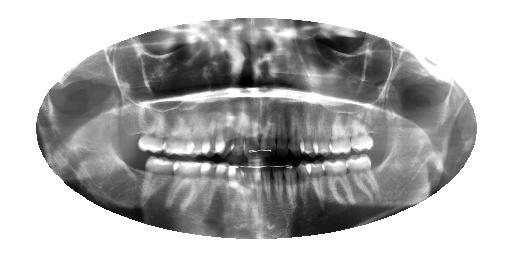Cavity: (276, 114, 288, 162)
